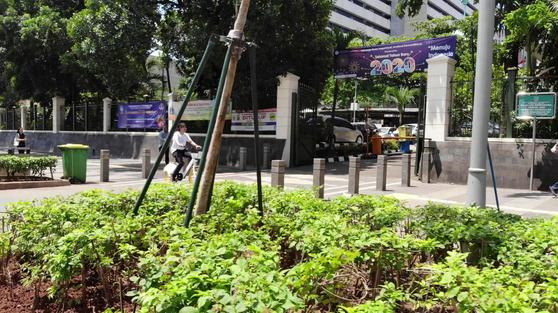bike: (159, 147, 211, 189)
